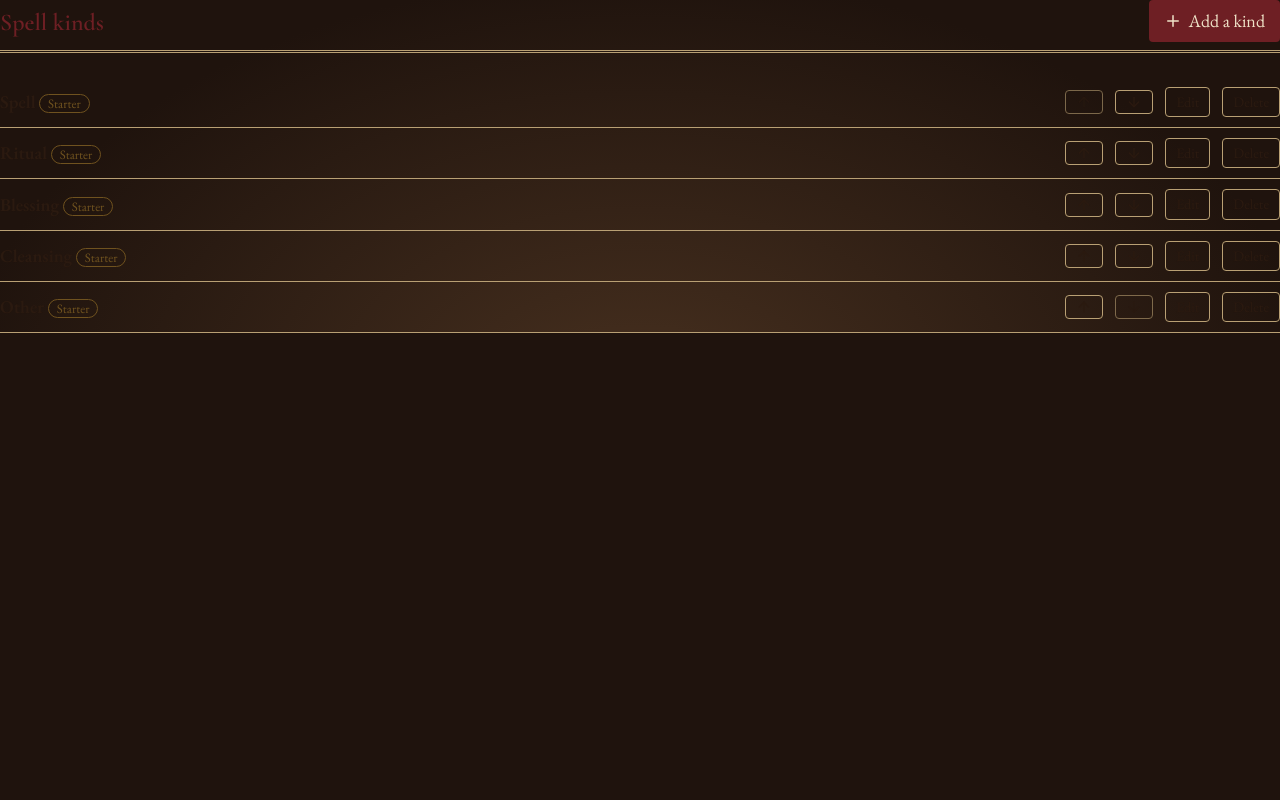
Scenario: SpellKinds › says "spell" when one uses it, and offers Undo after deleting
This screenshot has width=1280, height=800.
Click the button "Delete" in the row of "Ritual" at (1251, 153), box [1222,138,1279,168]
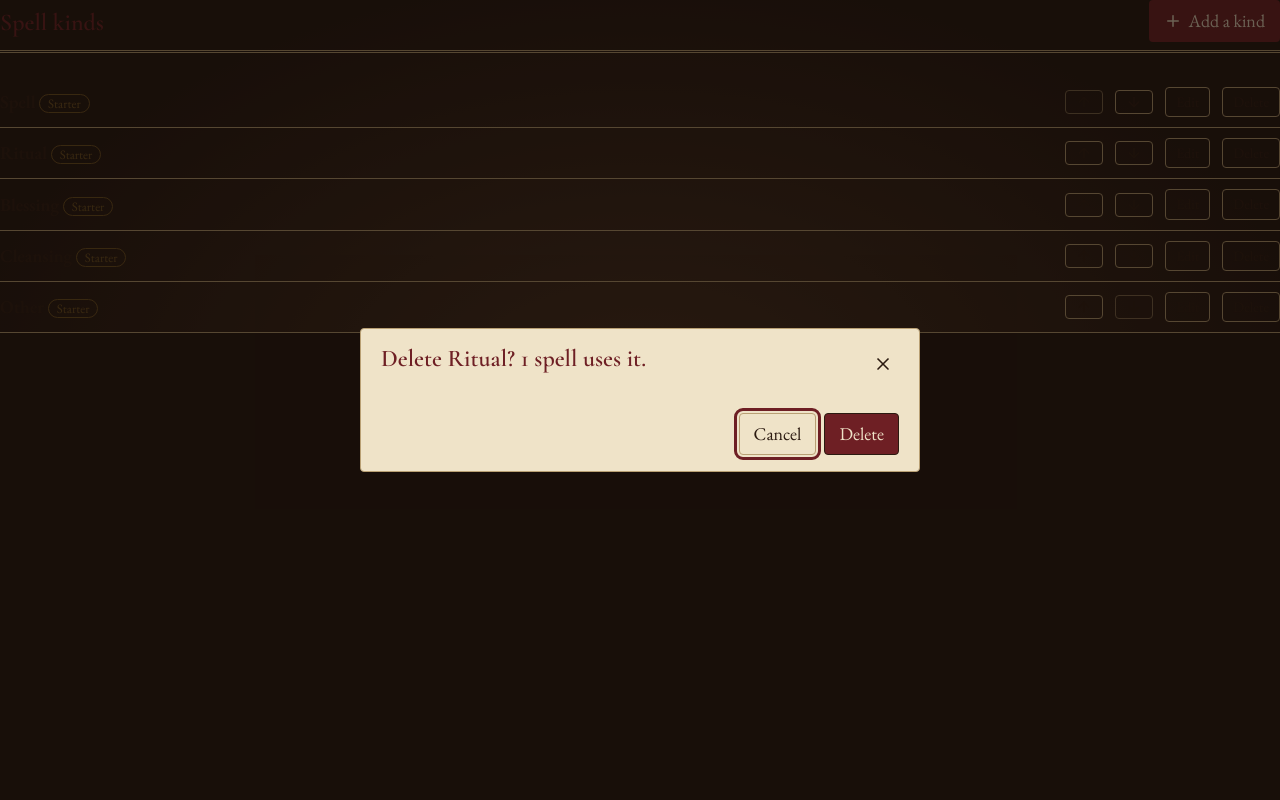
Now the heading "Delete Ritual? 1 spell uses it." is shown, box [381,345,646,374]
Click the button "Delete" at (862, 434), box [824,414,899,455]
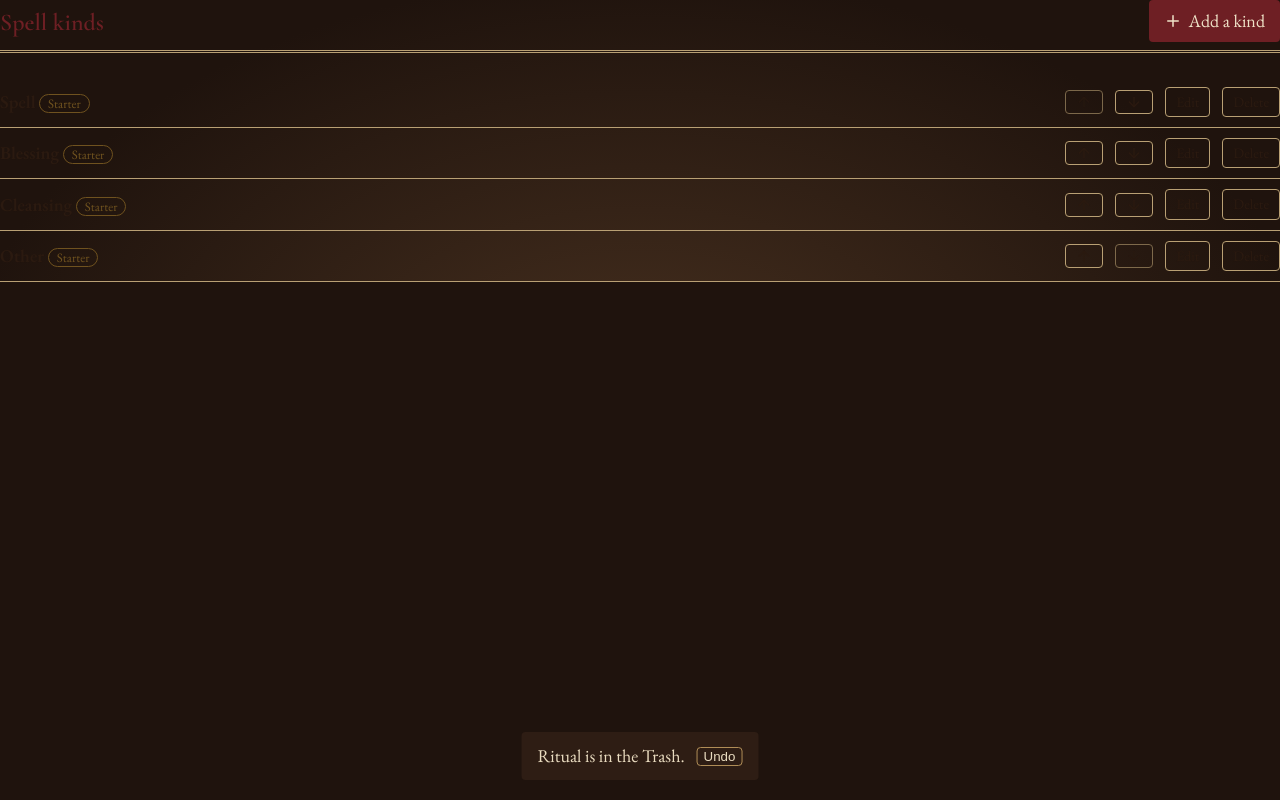
Now the text "Ritual is in the Trash." is shown, box [538,742,684,770]
Now the button "Undo" is shown, box [697,746,742,766]
